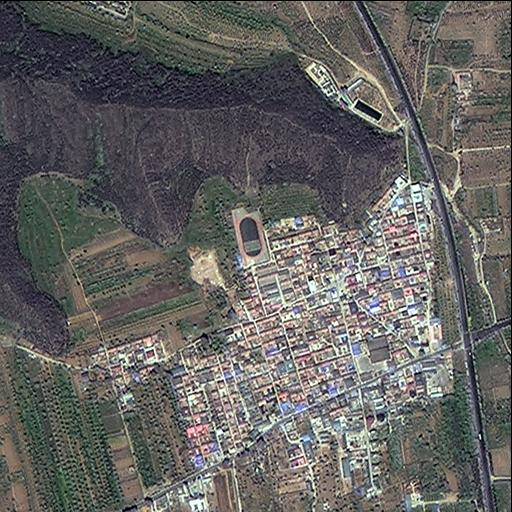school: (228, 204, 283, 314)
